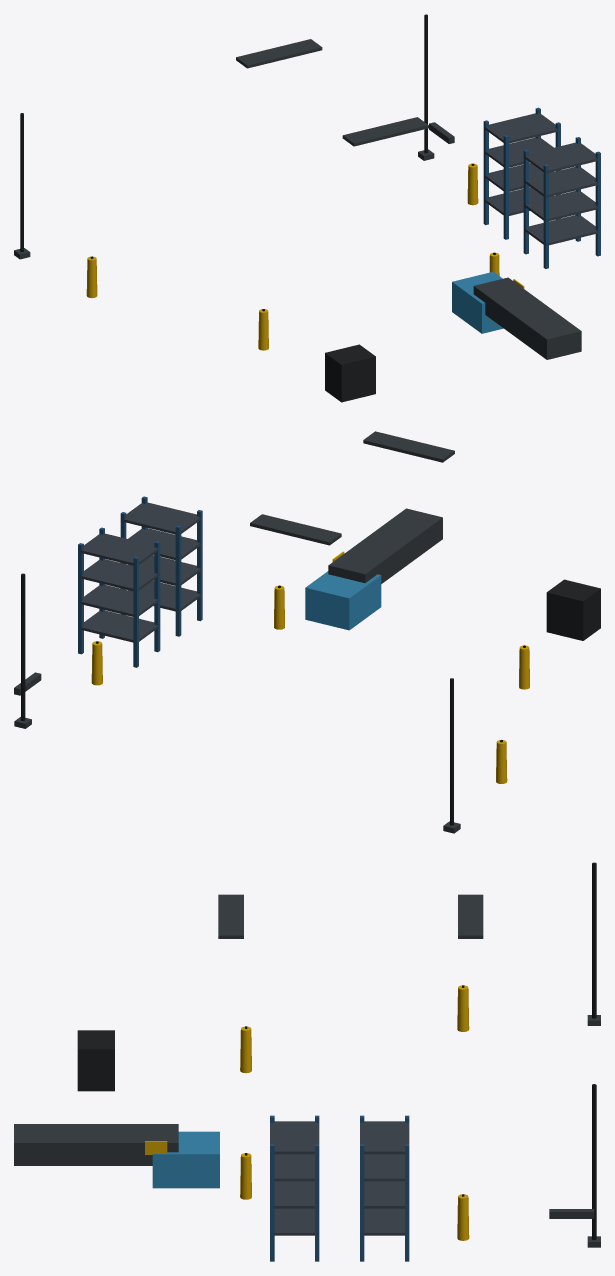
The picture shows the model from 3 angles, top to bottom: view 1: azimuth 30°, elevation 25°; view 2: azimuth 150°, elevation 25°; view 3: azimuth 270°, elevation 25°; orthographic projection. The views are drawn at different scales.
Parts seen in each view (by area): view 1: chip:body, chip:bin, chip:coolant-tank, buffer:2:shelf:1.6, buffer:1:shelf:1.6, buffer:2:shelf:1.2, buffer:2:shelf:0.4, buffer:2:shelf:0.8, worklight:2:frame, worklight:1:frame, buffer:1:shelf:1.2, buffer:1:shelf:0.4 (+8 smaller); view 2: chip:body, chip:coolant-tank, chip:bin, buffer:2:shelf:1.6, buffer:1:shelf:1.6, buffer:1:shelf:0.4, buffer:1:shelf:1.2, buffer:1:shelf:0.8, worklight:1:frame, worklight:2:frame, buffer:2:shelf:1.2, buffer:2:shelf:0.4 (+8 smaller); view 3: chip:body, chip:coolant-tank, chip:bin, buffer:1:shelf:1.6, buffer:2:shelf:1.6, worklight:1:frame, worklight:2:frame, buffer:2:shelf:0.4, buffer:1:shelf:0.4, buffer:2:shelf:1.2, buffer:1:shelf:1.2, buffer:2:shelf:0.8 (+11 smaller).
Part boxes in pixels (x1,y1,x2,y2): chip:body: (473, 277, 581, 359); chip:bin: (325, 344, 375, 402); chip:coolant-tank: (452, 271, 503, 333); buffer:2:shelf:1.6: (524, 142, 600, 173); buffer:1:shelf:1.6: (483, 113, 557, 143); buffer:2:shelf:1.2: (523, 166, 600, 197); buffer:2:shelf:0.4: (524, 215, 600, 245); buffer:2:shelf:0.8: (524, 191, 600, 221); worklight:2:frame: (236, 39, 322, 68); worklight:1:frame: (342, 117, 428, 146); buffer:1:shelf:1.2: (483, 137, 553, 167); buffer:1:shelf:0.4: (483, 187, 553, 215); chip:body: (328, 508, 442, 583); chip:coolant-tank: (305, 571, 381, 630); chip:bin: (546, 579, 600, 640); buffer:2:shelf:1.6: (120, 502, 200, 535); buffer:1:shelf:1.6: (79, 533, 157, 565); buffer:1:shelf:0.4: (78, 610, 160, 642); buffer:1:shelf:1.2: (78, 559, 160, 591); buffer:1:shelf:0.8: (78, 585, 159, 616); worklight:1:frame: (363, 431, 454, 462); worklight:2:frame: (250, 514, 341, 545); buffer:2:shelf:1.2: (128, 528, 200, 560); buffer:2:shelf:0.4: (128, 580, 200, 612); chip:body: (14, 1124, 178, 1165); chip:coolant-tank: (152, 1131, 219, 1188); chip:bin: (77, 1030, 114, 1091); buffer:1:shelf:1.6: (360, 1121, 409, 1154); buffer:2:shelf:1.6: (270, 1121, 319, 1154); worklight:1:frame: (218, 894, 243, 938); worklight:2:frame: (458, 894, 483, 938); buffer:2:shelf:0.4: (270, 1208, 318, 1235); buffer:1:shelf:0.4: (360, 1208, 408, 1235); buffer:2:shelf:1.2: (270, 1154, 318, 1181); buffer:1:shelf:1.2: (361, 1154, 408, 1181); buffer:2:shelf:0.8: (270, 1181, 314, 1208).
Bounding box in the file's own units: 7.62 × 3.23 × 7.84.
